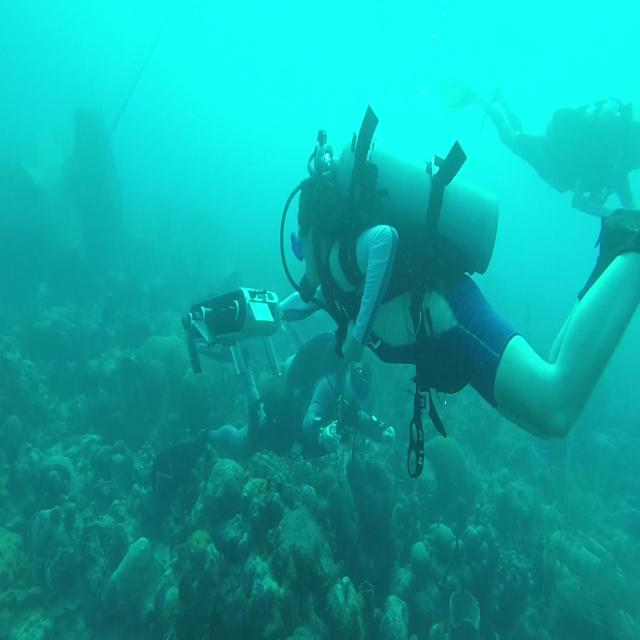human: (280, 106, 639, 477), (150, 327, 396, 497), (442, 80, 640, 219)
